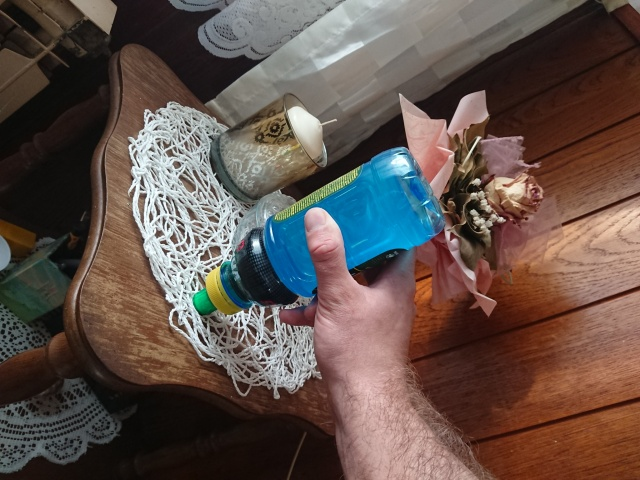Vindi Iso Sport Forest Strawberries 500mL: (190, 144, 446, 318)
